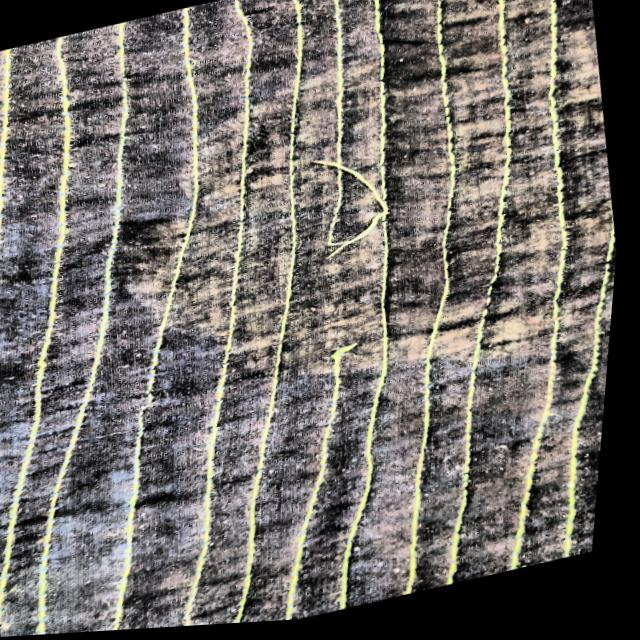Stitch: (277, 126, 427, 384)
